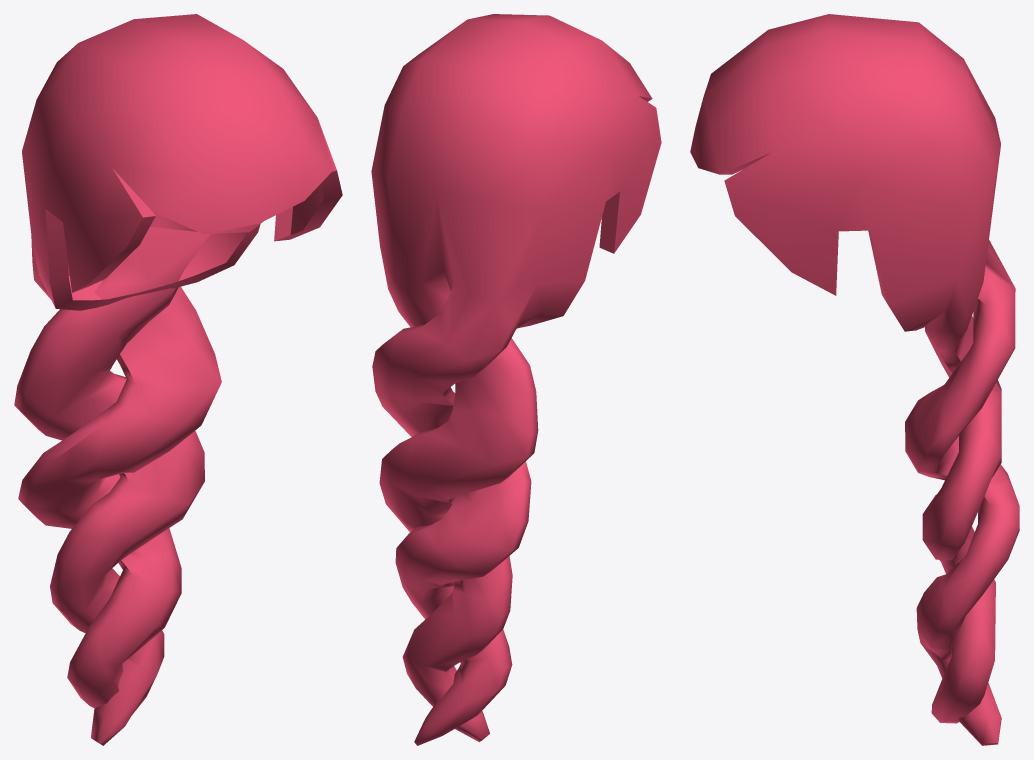
Rendered from Hair_4.FBX.
3 renders of one model, left to right at view 1: azimuth 30°, elevation 25°; view 2: azimuth 150°, elevation 25°; view 3: azimuth 270°, elevation 25°, orthographic. The views are drawn at different scales.
Parts seen in each view (by area): view 1: Hair_4; view 2: Hair_4; view 3: Hair_4.
Part boxes in pixels (x1,y1,x2,y2): Hair_4: (14,14,342,745); Hair_4: (371,14,661,745); Hair_4: (690,14,1019,745).
Size of the model in its own units: 0.175 by 0.5255 by 0.2228.
